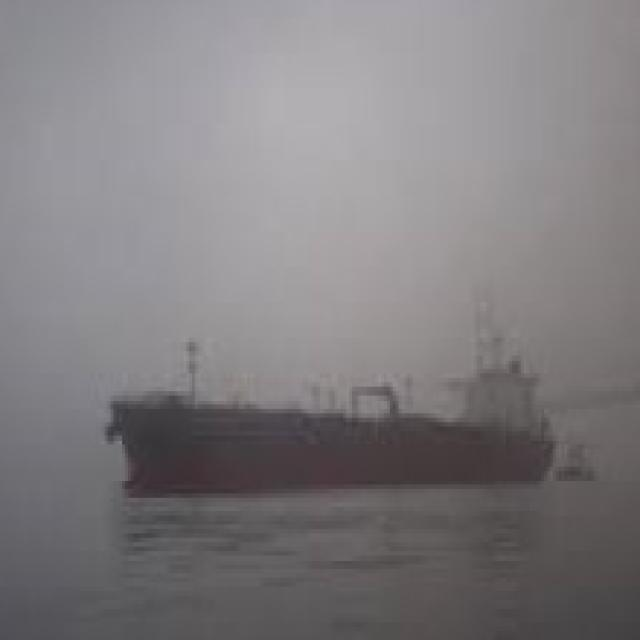cargoship: (108, 322, 553, 488)
